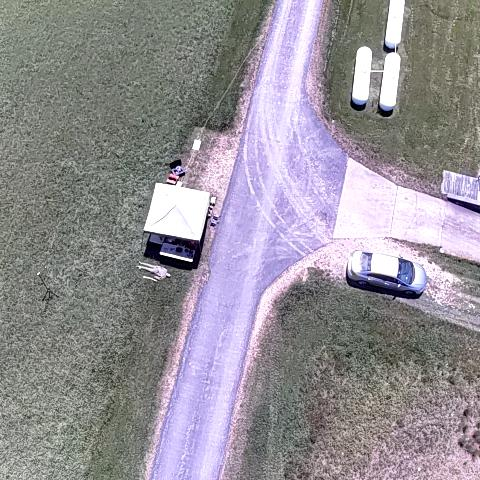person: (134, 261, 172, 284)
